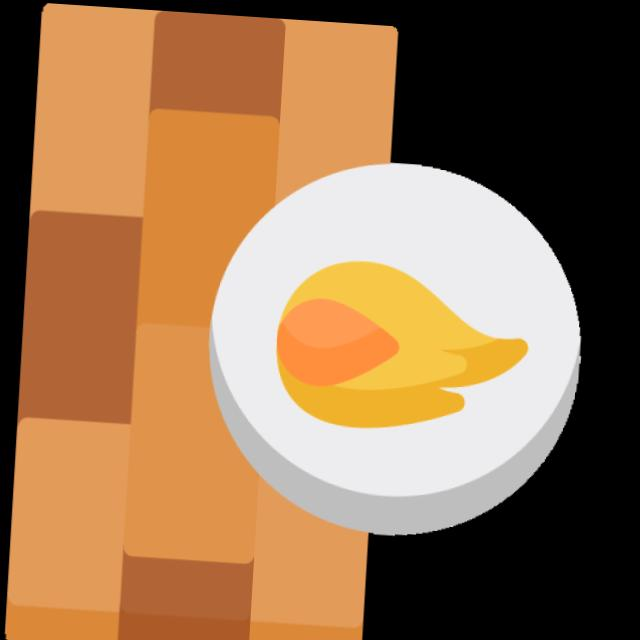Firewall: (0, 1, 640, 640)
